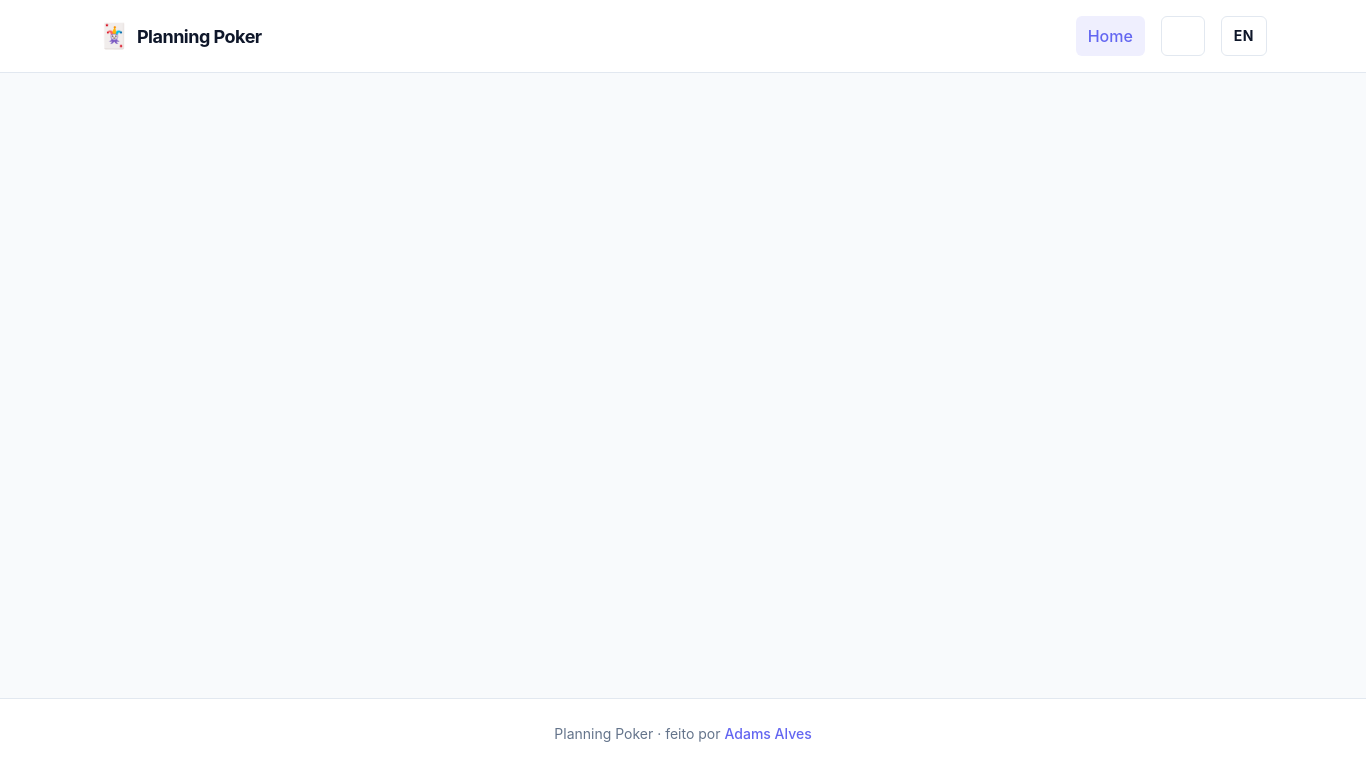
Scenario: DefaultLayout.vue › switches the UI language via the navbar locale toggle
Click the button with class "locale-toggle": [1244, 36] box [1221,16,1267,56]
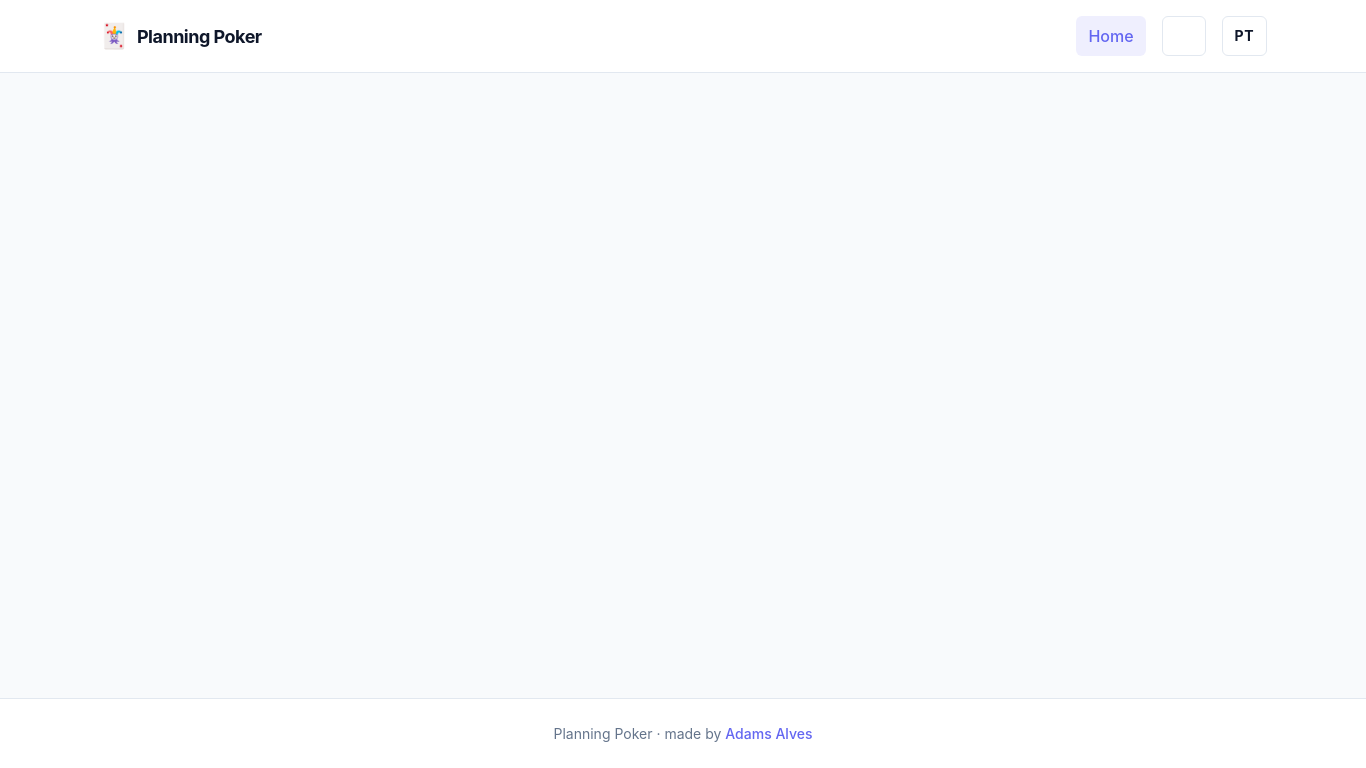
expect the button with class "locale-toggle" reads "PT": met
expect the text "made by" is shown: met, box [554,725,725,742]
expect the text "feito por" is gone: met
Click the button with class "locale-toggle": [1244, 36] box [1222,16,1267,56]
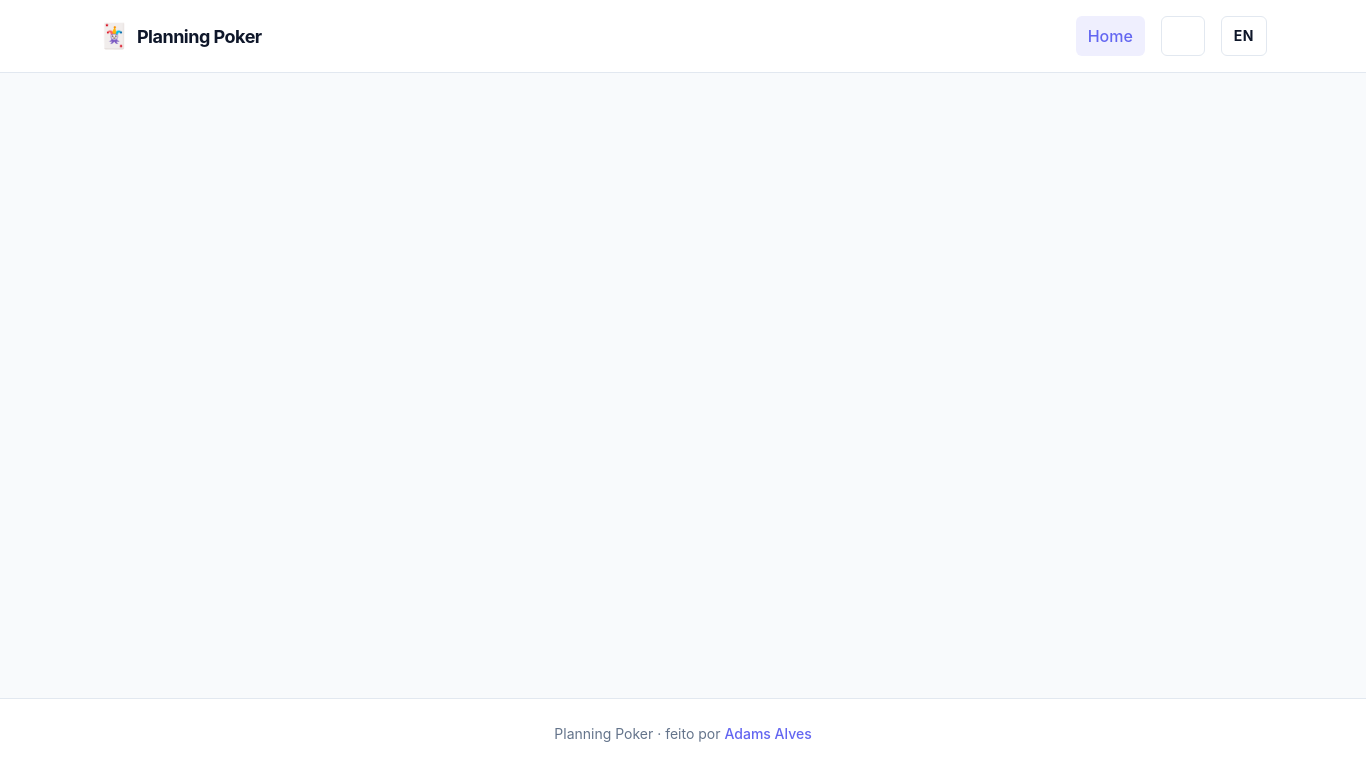
expect the text "feito por" is shown: met, box [554,725,724,742]
